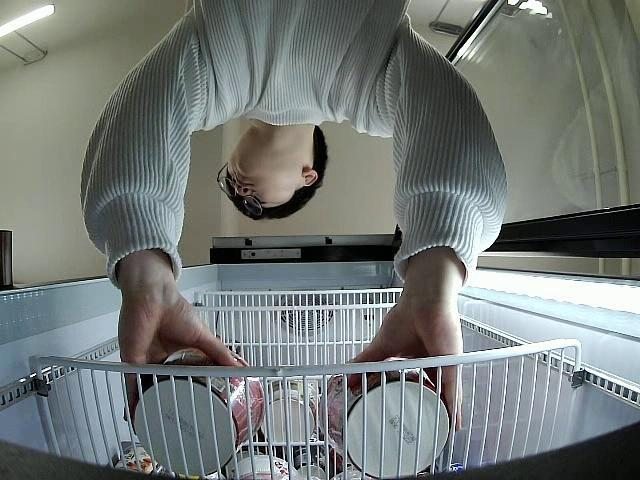01_ShinRamen_L: (132, 348, 265, 474), (316, 358, 451, 476)
